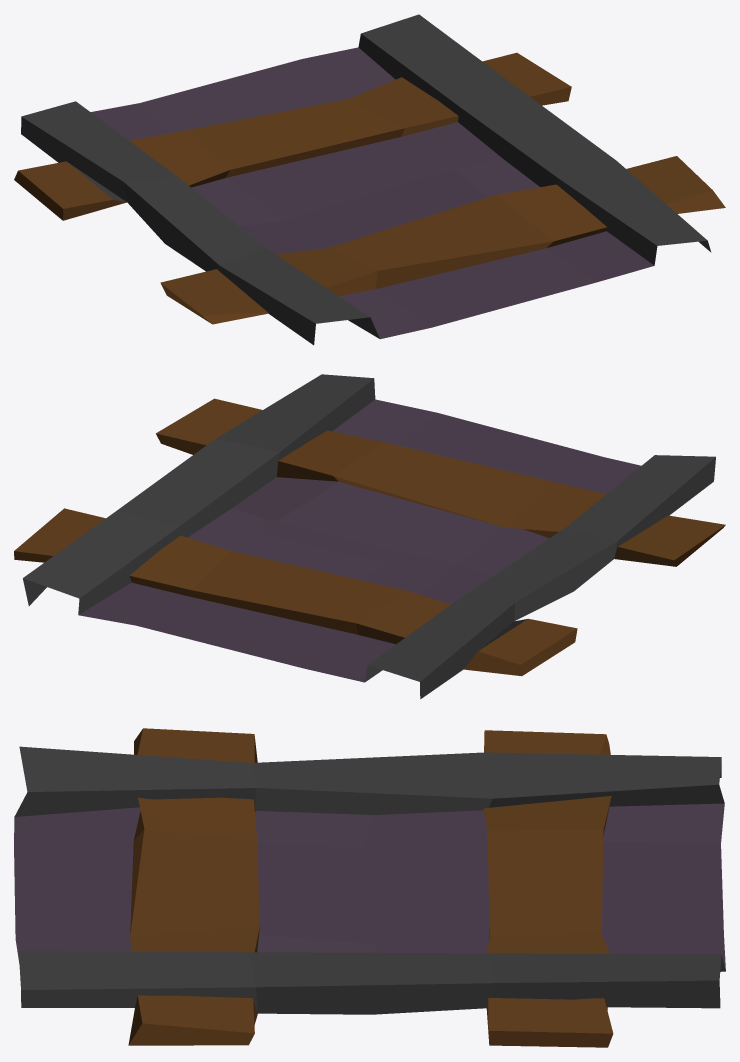
The model's file is trainTrackSegment.fbx.
The picture shows the model from 3 angles, top to bottom: view 1: azimuth 30°, elevation 25°; view 2: azimuth 150°, elevation 25°; view 3: azimuth 270°, elevation 25°; orthographic projection. The views are drawn at different scales.
Visible parts, largest first — view 1: Tunnel; view 2: Tunnel; view 3: Tunnel.
Part boxes in pixels (bbox=[...]): Tunnel: bbox=[14, 14, 725, 345]; Tunnel: bbox=[14, 374, 725, 699]; Tunnel: bbox=[14, 728, 725, 1047].
Bounding box in the file's own units: 614 × 36.17 × 610.
